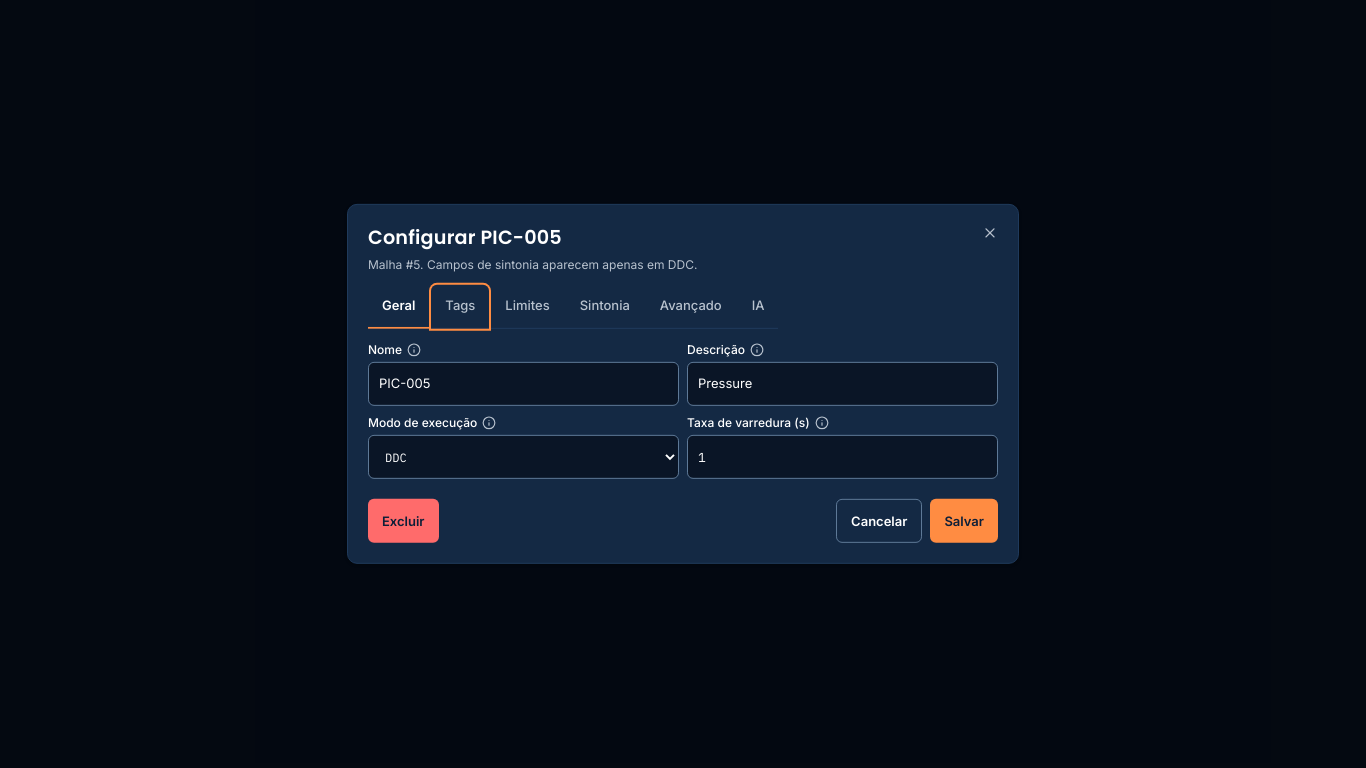
Test: LoopConfigDialog — OPC-UA tag picker › binds the chosen node to NodeID SP and leaves the rest alone
Press Enter in the tab "Tags", box [431,285,489,329]
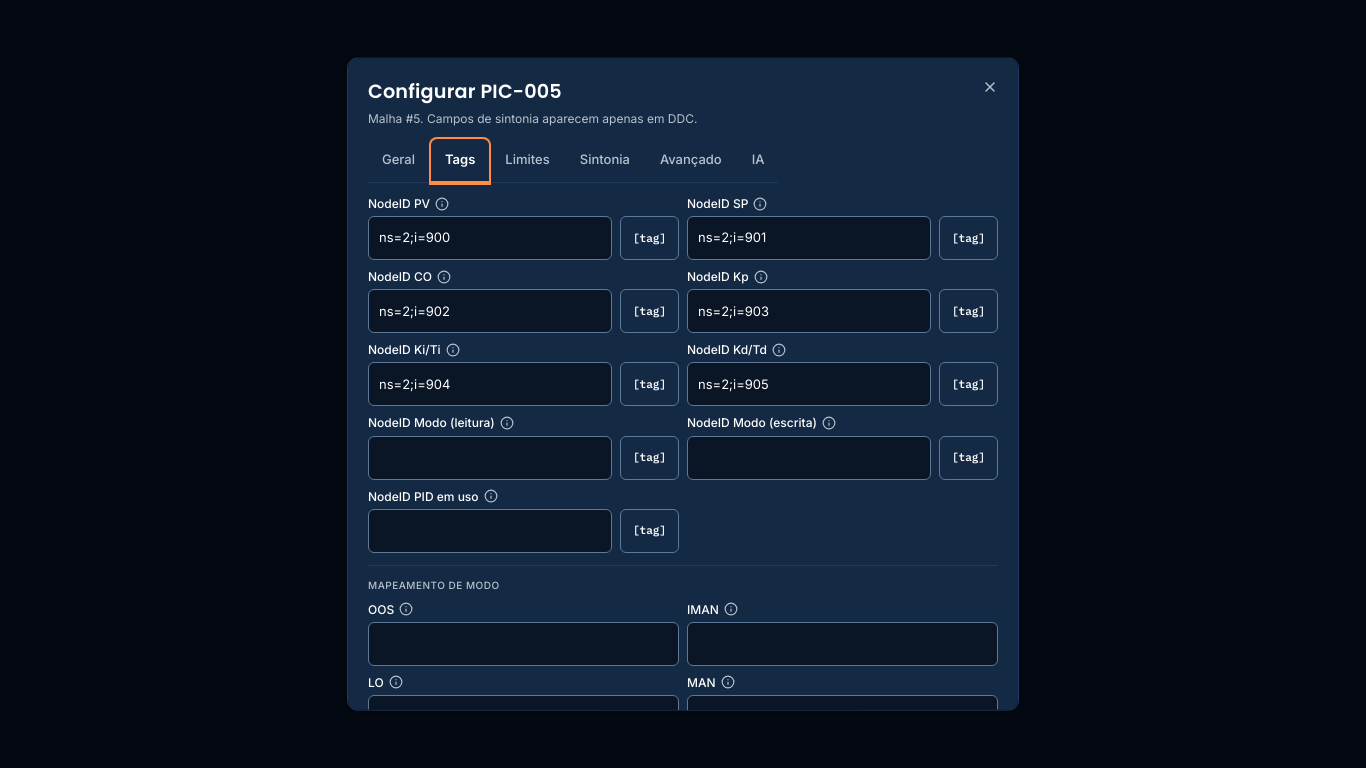
Click the button "[tag]" below "NodeID SP" at coordinates (968, 238), box [939,216,998,260]
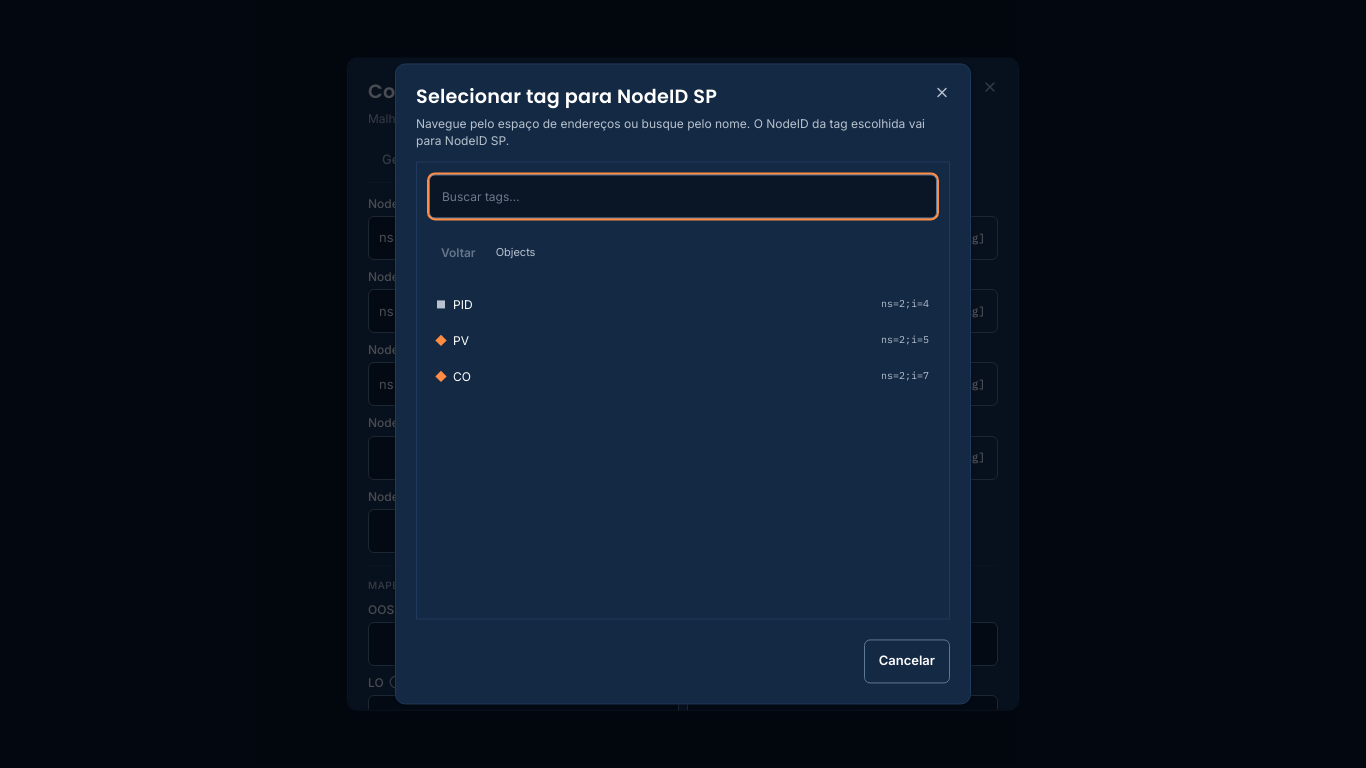
Click the button "CO ns=2;i=7" at coordinates (905, 376), box [429,359,937,395]
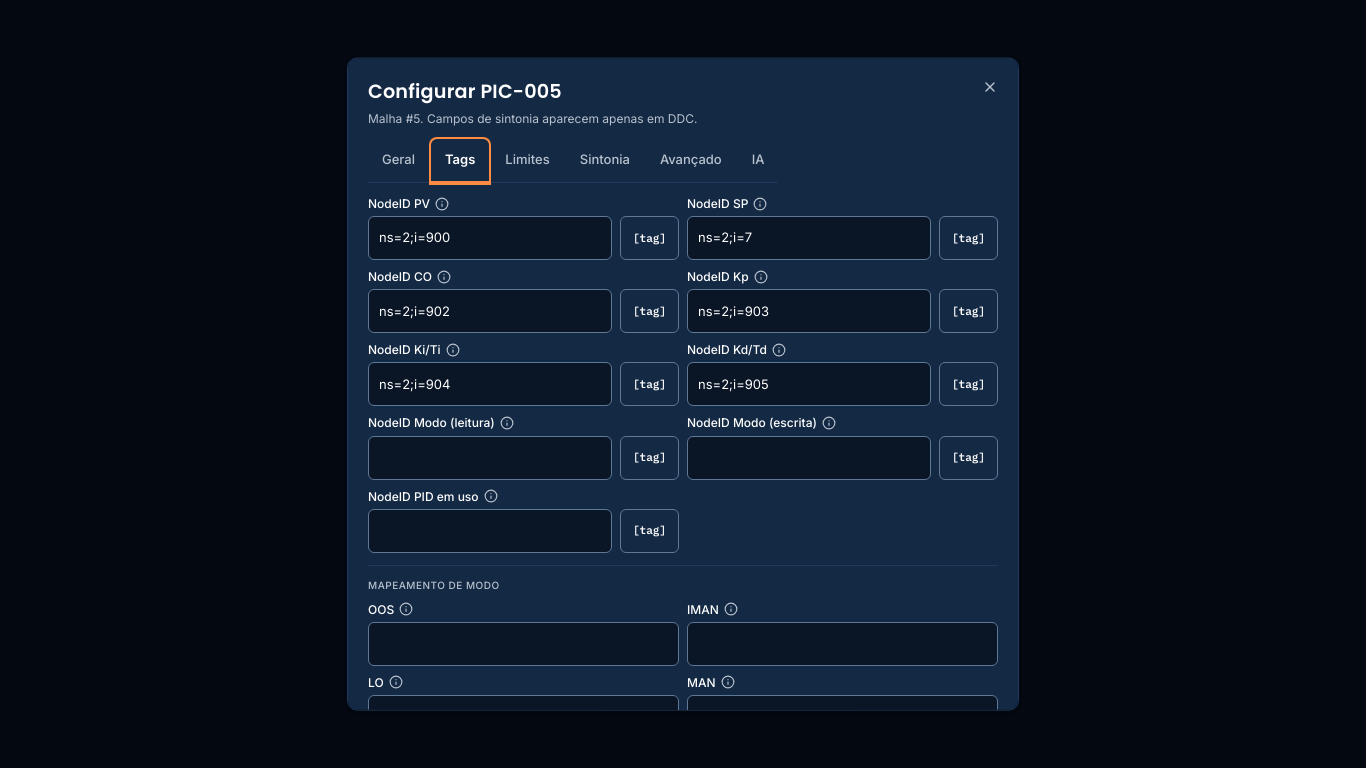
Expected: the field labelled "NodeID SP" holds "ns=2;i=7", [687,216,931,260]
